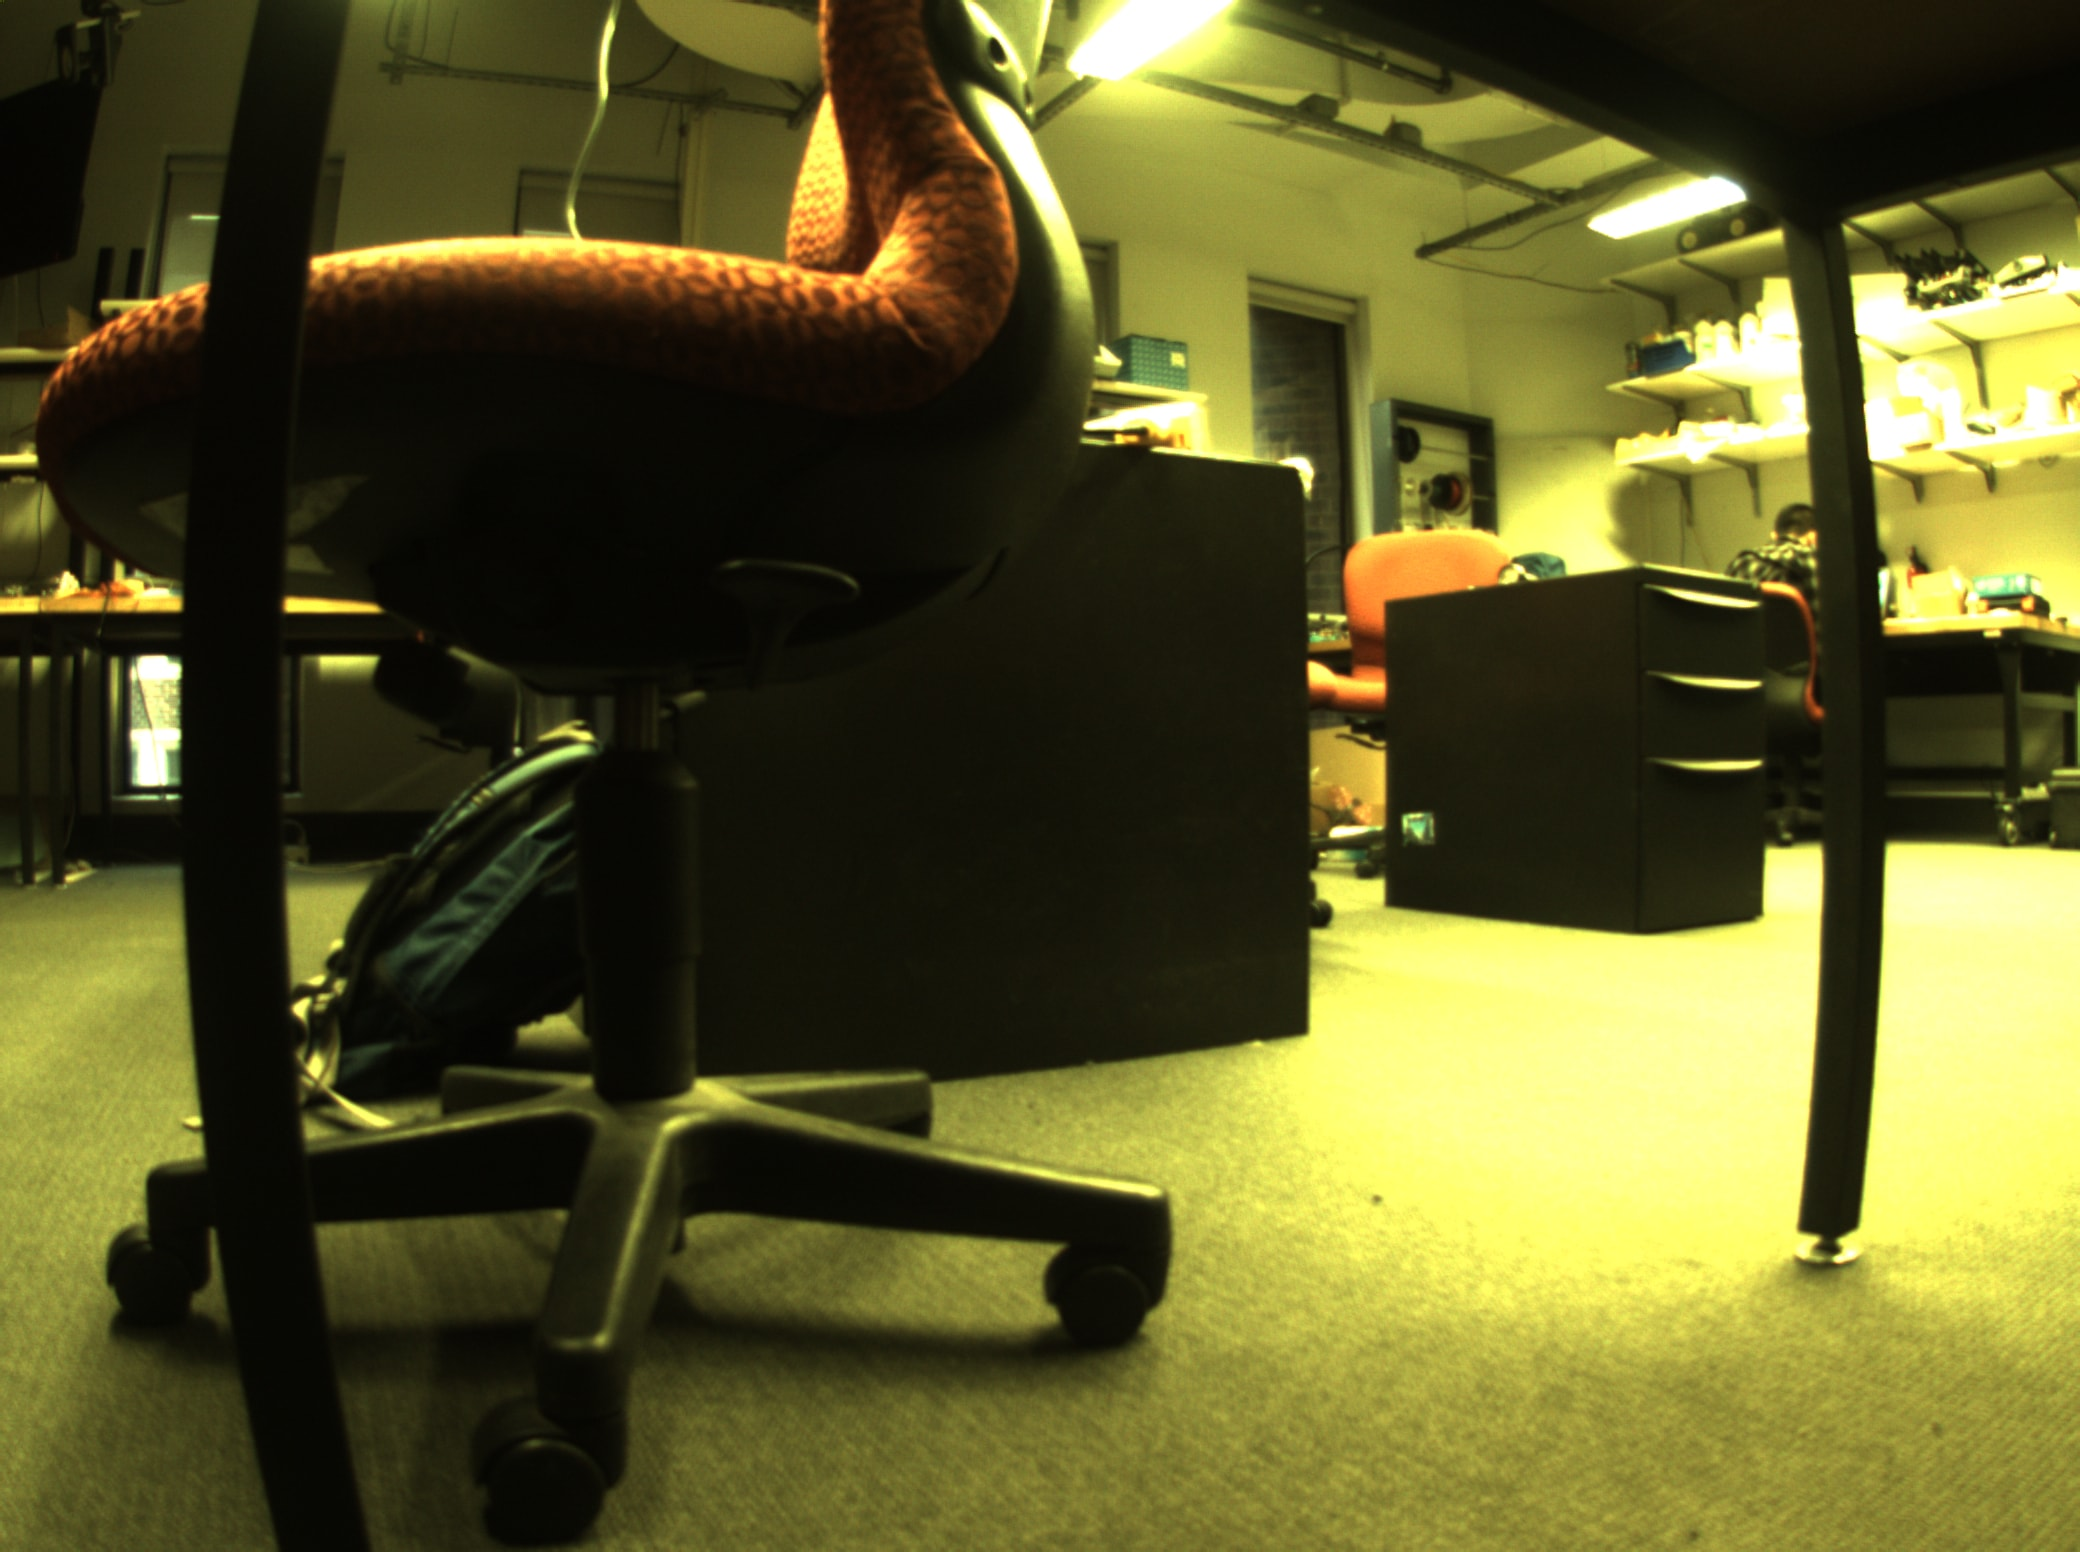chair: (24, 8, 1213, 1488), (1312, 497, 1544, 871), (1697, 566, 1863, 840)
